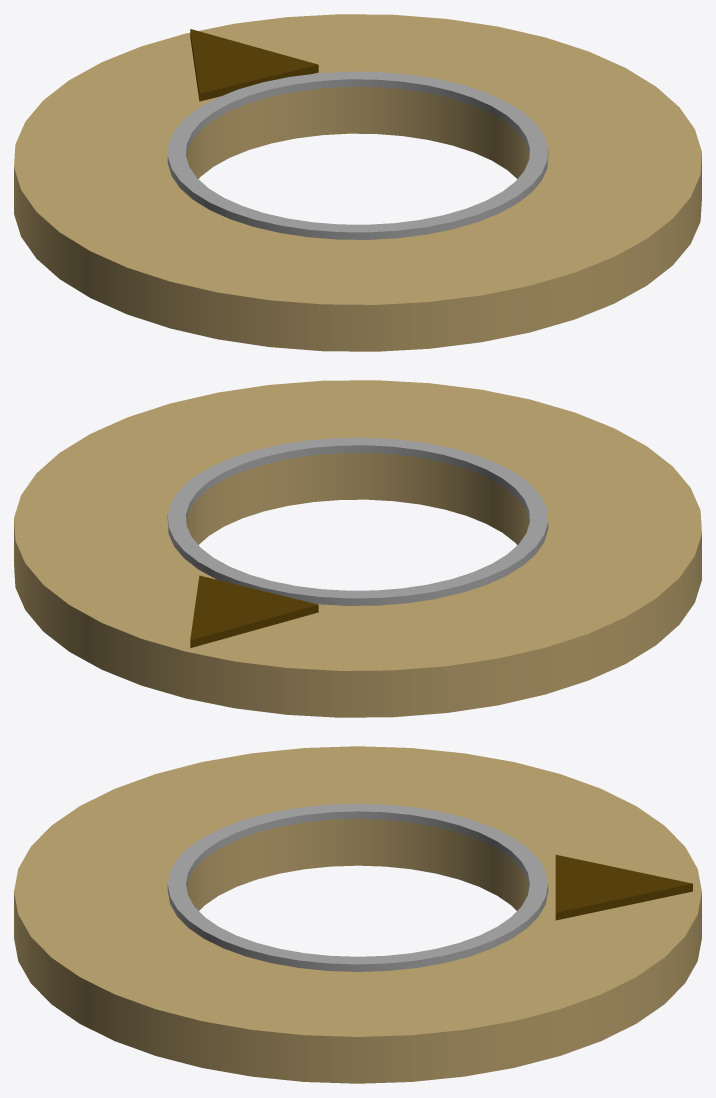
The model's file is BrownRing.fbx.
3 renders of one model, top to bottom at view 1: azimuth 30°, elevation 25°; view 2: azimuth 150°, elevation 25°; view 3: azimuth 270°, elevation 25°, orthographic.
Parts seen in each view (by area): view 1: pCube5; view 2: pCube5; view 3: pCube5.
Boxes of the visible parts, bbox=[...] form: pCube5: bbox=[14, 14, 701, 351]; pCube5: bbox=[14, 380, 701, 717]; pCube5: bbox=[14, 746, 701, 1083].
Bounding box in the file's own units: 0.4 × 0.0351 × 0.4.
